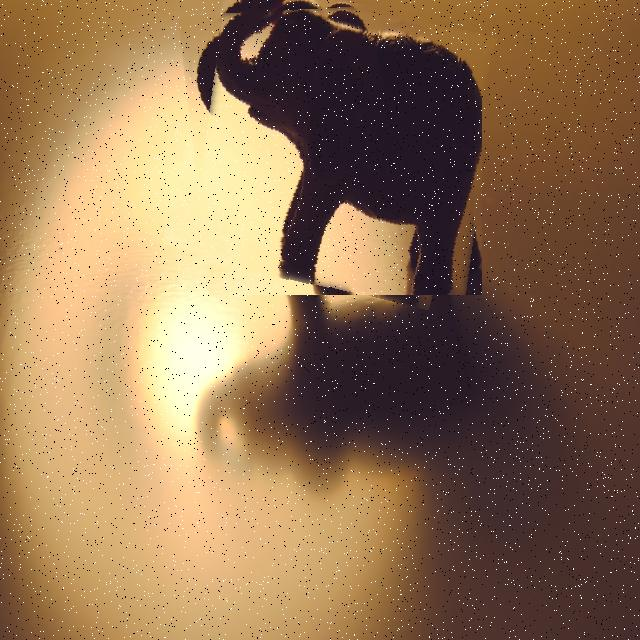elephant: (178, 0, 482, 295)
